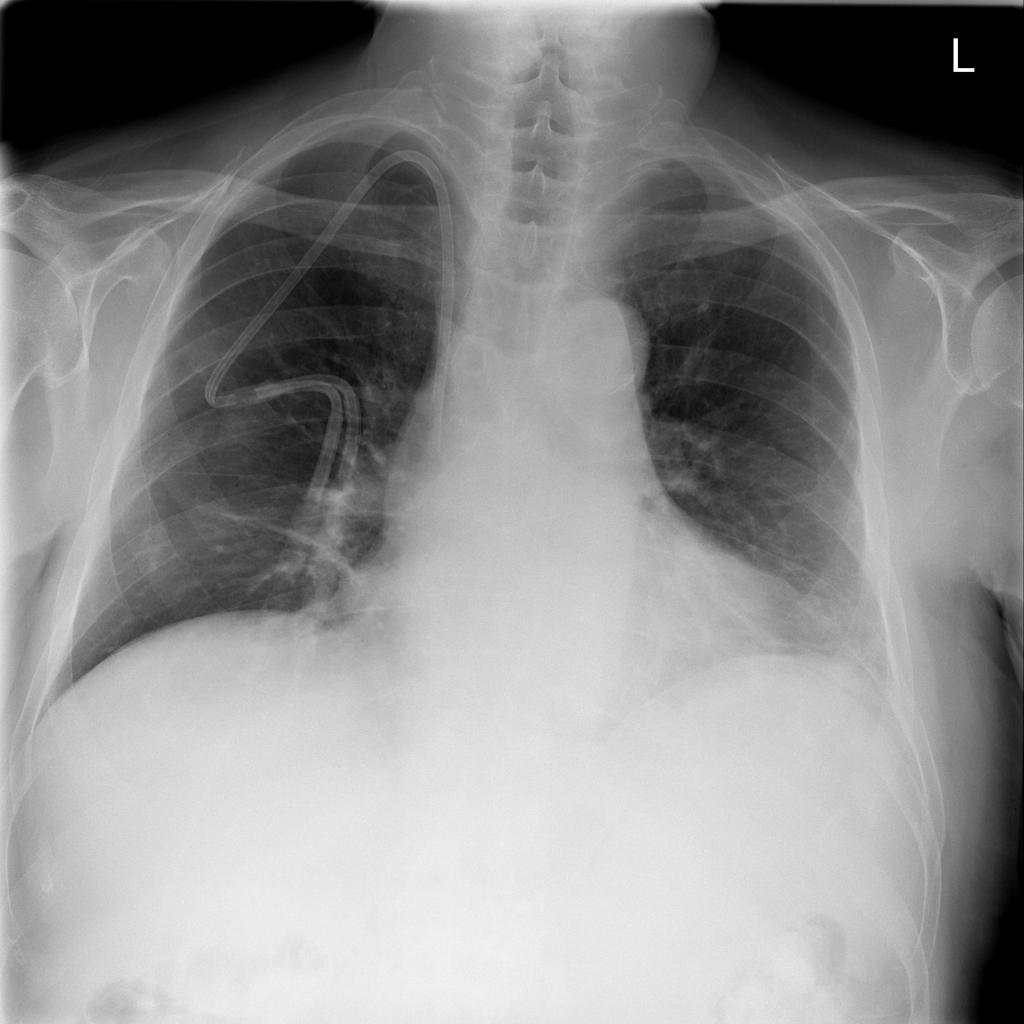nodule: (784, 590, 873, 661)
